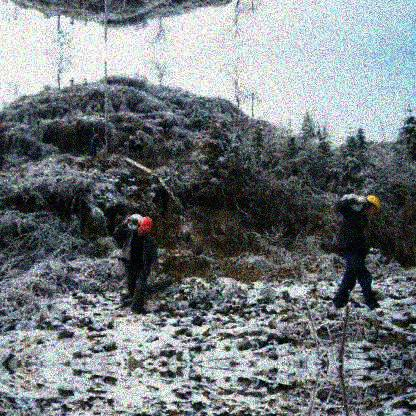helmet: (136, 216, 154, 238)
